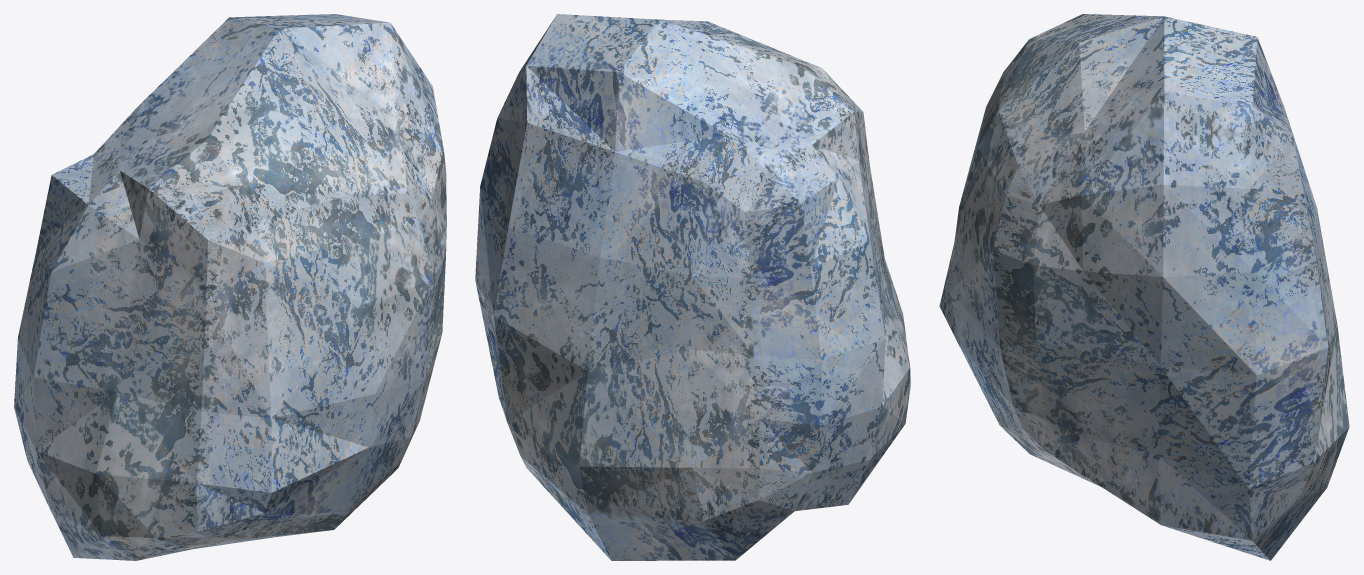
Rendered from asteroid_ice_radial_s02_l0.fbx.
3 renders of one model, left to right at view 1: azimuth 30°, elevation 25°; view 2: azimuth 150°, elevation 25°; view 3: azimuth 270°, elevation 25°, orthographic. The views are drawn at different scales.
Visible parts, largest first — view 1: mesh_node; view 2: mesh_node; view 3: mesh_node.
Boxes of the visible parts, box(x1,y1,x2,y2) form: mesh_node: box(14, 14, 446, 560); mesh_node: box(475, 14, 910, 560); mesh_node: box(939, 14, 1349, 560).
Bounding box in the file's own units: 4.48 × 5.71 × 3.89.
Materials: 1 (1 with a texture image).
